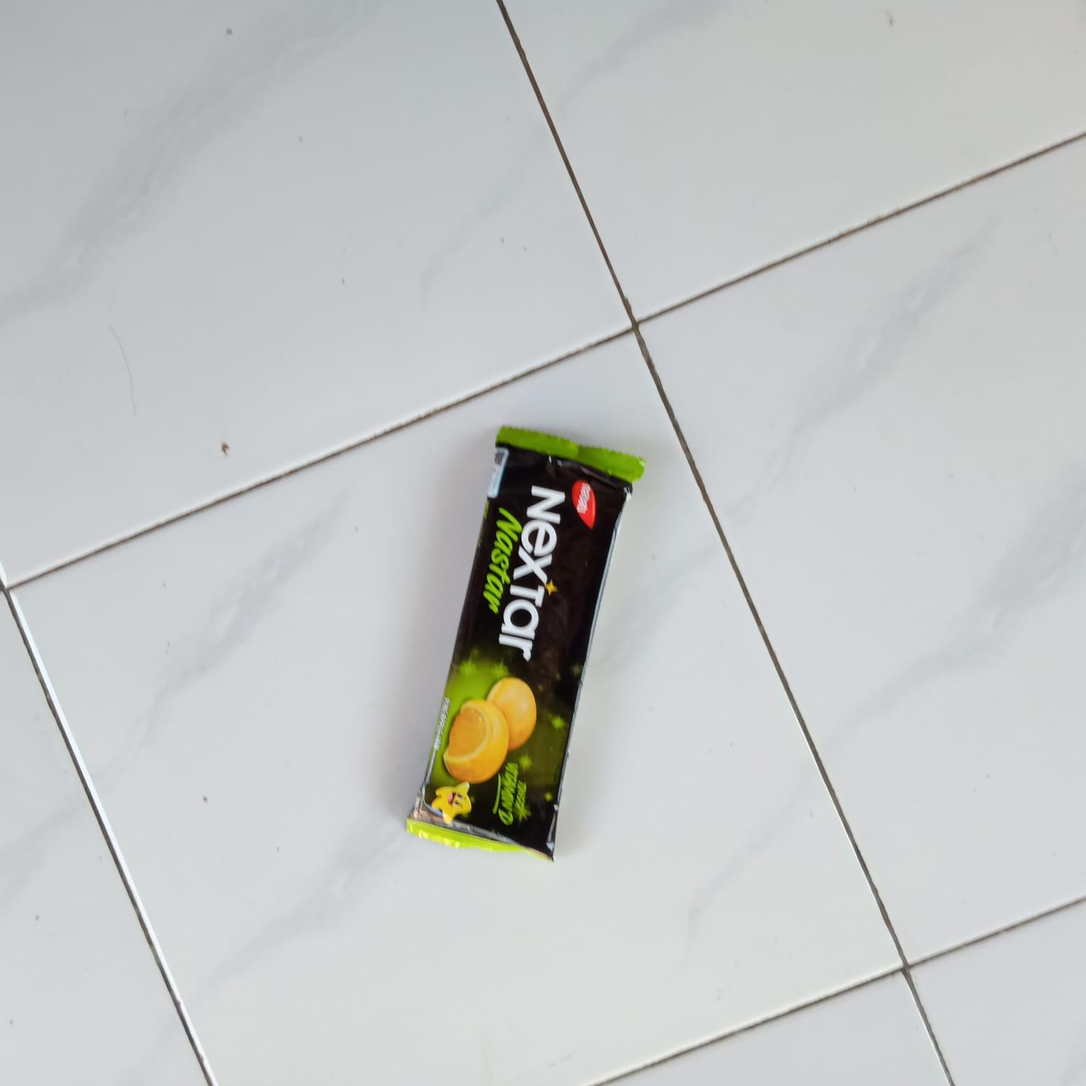Plastik: (404, 425, 650, 863)
